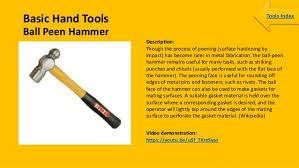hammer: (27, 45, 122, 130)
